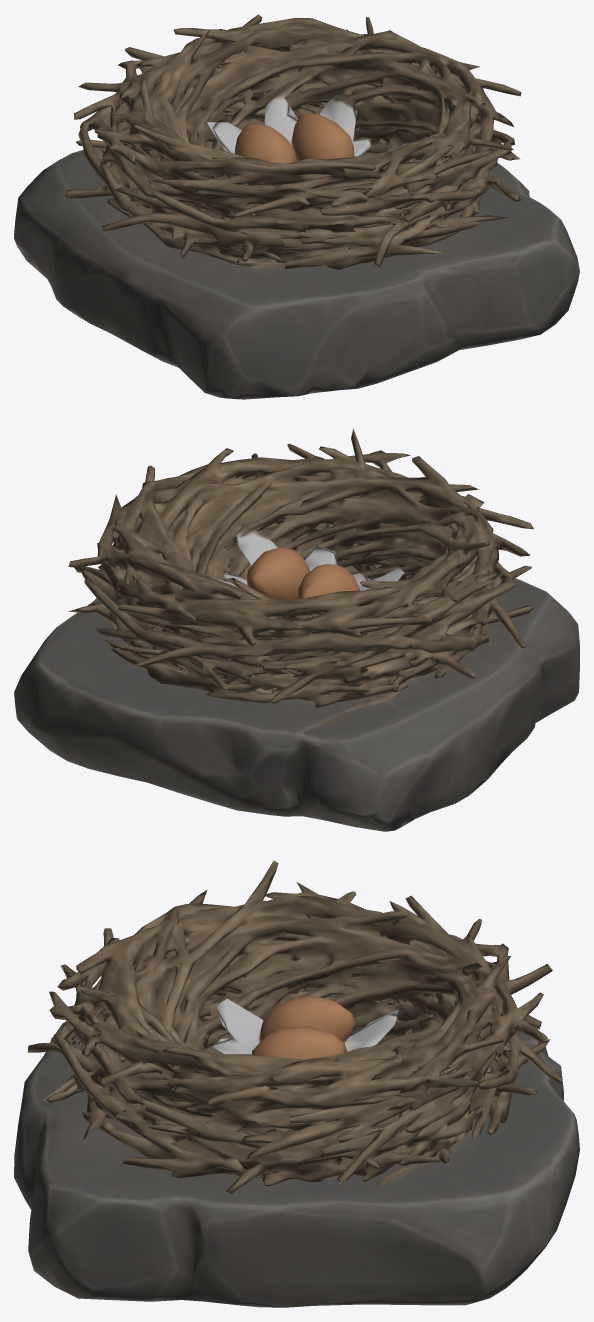
The model's file is nido_condor.glb.
3 renders of one model, top to bottom at view 1: azimuth 30°, elevation 25°; view 2: azimuth 150°, elevation 25°; view 3: azimuth 270°, elevation 25°, orthographic. The views are drawn at different scales.
Parts seen in each view (by area): view 1: geometry_0; view 2: geometry_0; view 3: geometry_0.
Part boxes in pixels (x1,y1,x2,y2): geometry_0: (14, 14, 579, 399); geometry_0: (14, 428, 579, 831); geometry_0: (14, 860, 579, 1307).
Bounding box in the file's own units: 0.9644 × 0.475 × 0.9976.
Materials: 1 (1 with a texture image).
